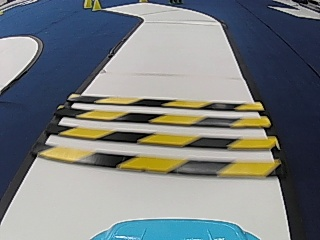bump: (73, 98, 250, 170)
